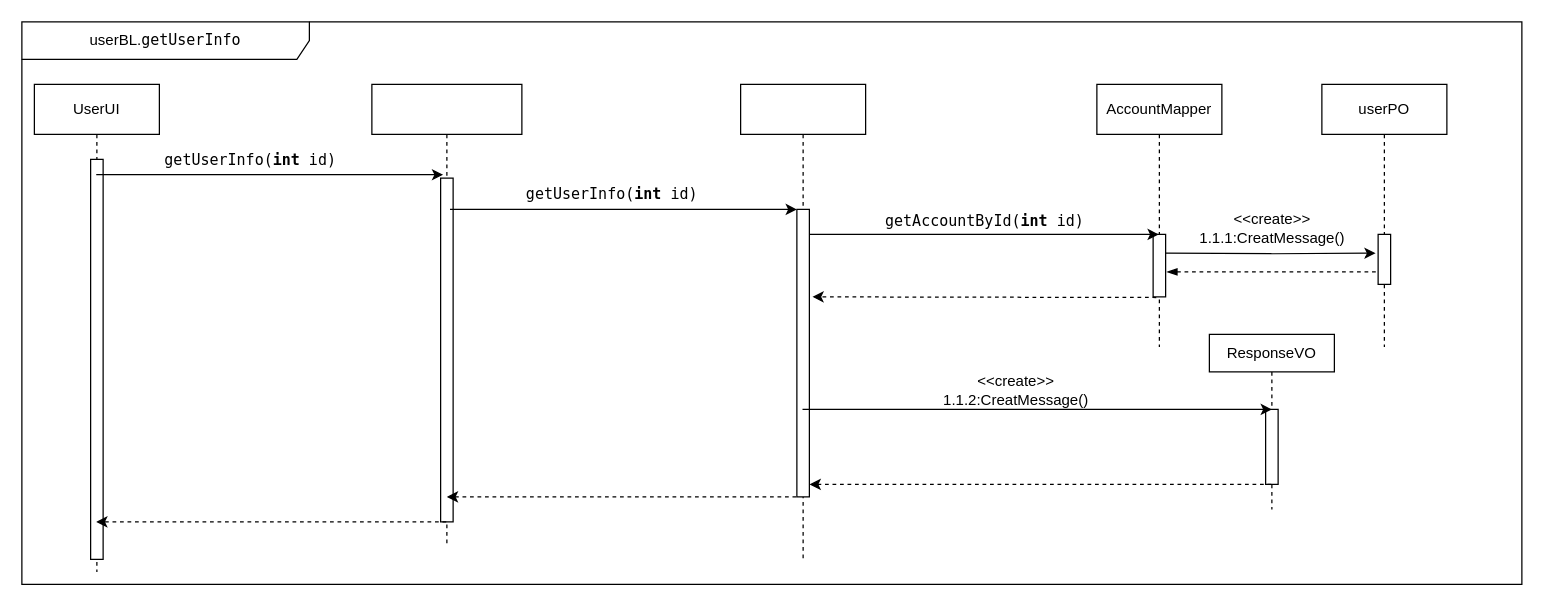
The diagram is 1544 pixels wide and 606 high, and some of its shapes have lost their labels. The shapes that lost their labels are listed below. From the top down, each one's box as (x1, y1, x2, y2) in pixels, then its label:
(371, 83, 522, 547): AccountController
(739, 83, 866, 559): userBL
